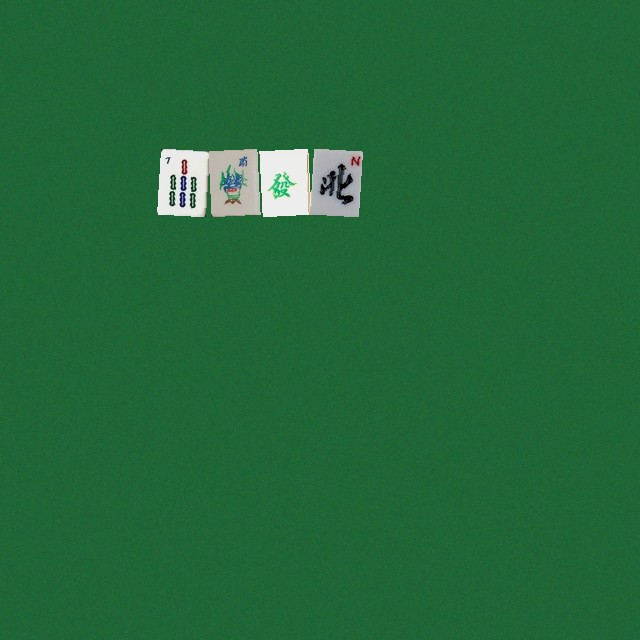tile: (157, 148, 206, 214), (208, 148, 257, 214), (259, 148, 308, 214), (310, 148, 359, 214)
